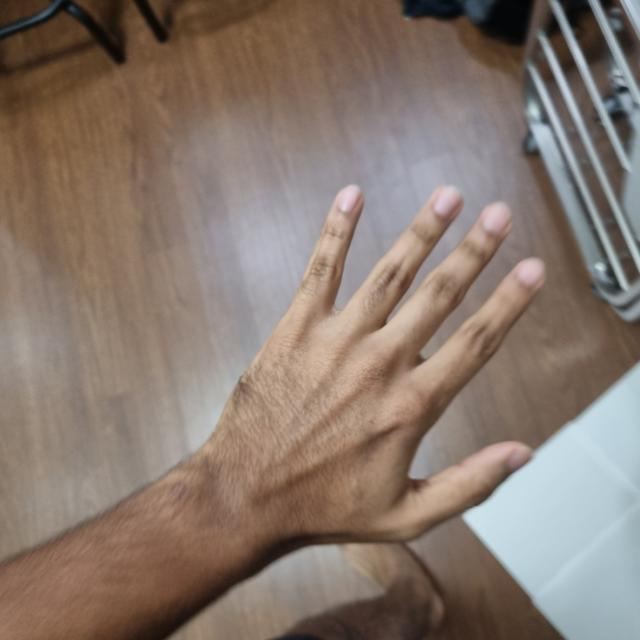Paper: (202, 187, 538, 544)
